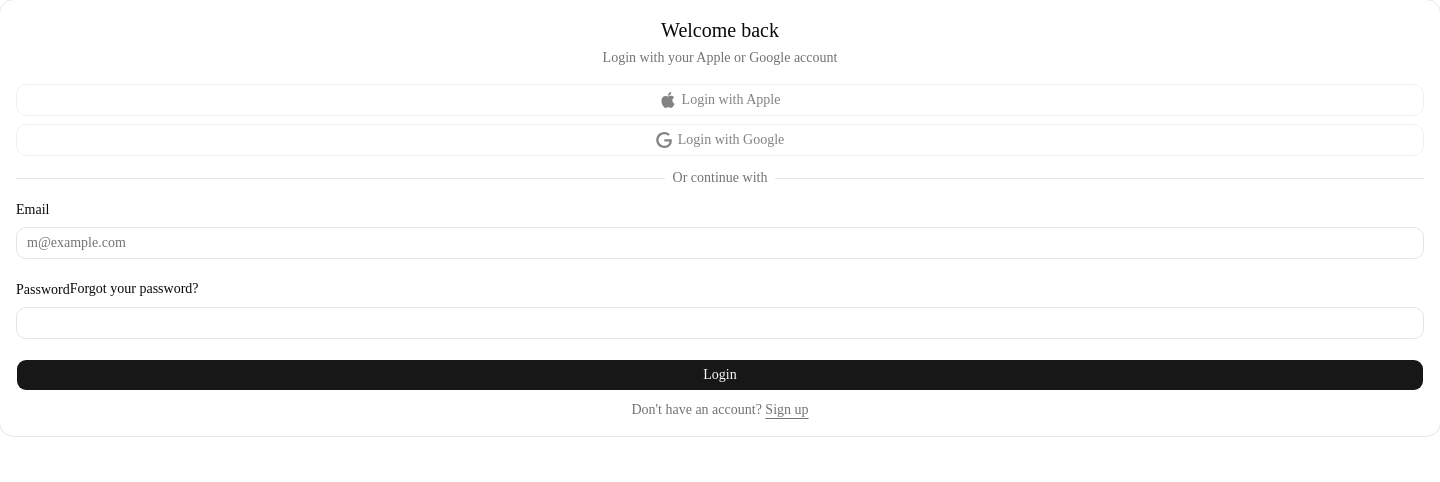
Test: LoginForm › blocks submit and shows a message for an invalid email
Type "not-an-email" into the field labelled "Email" at (720, 243), box [16,227,1424,259]
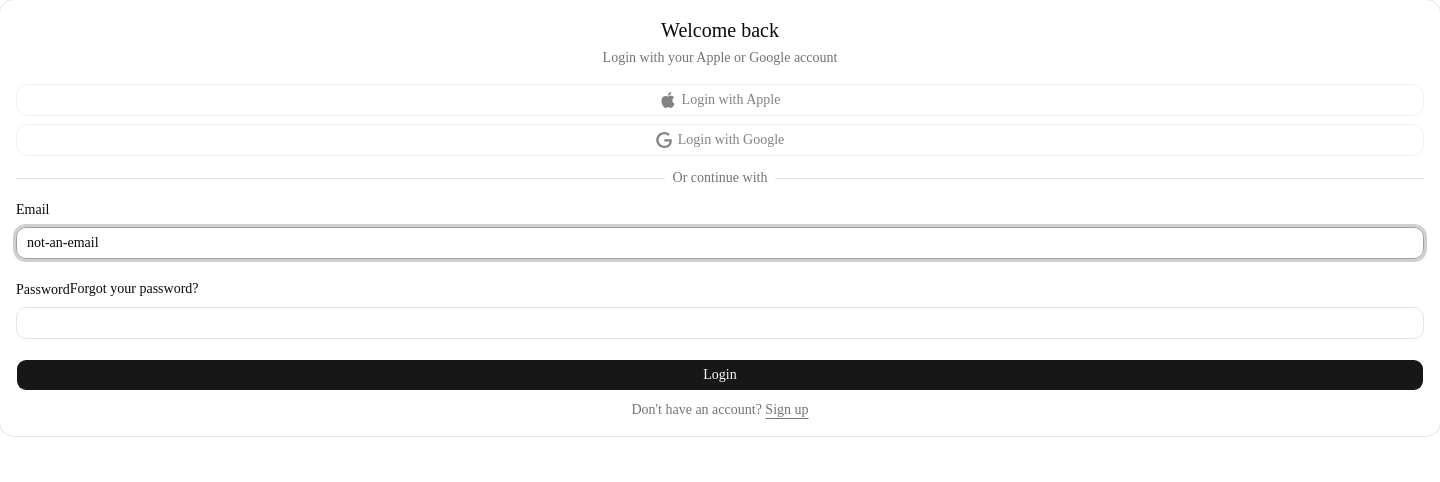
Type "secret123" into the password field labelled "Password" at (720, 323), box [16,307,1424,339]
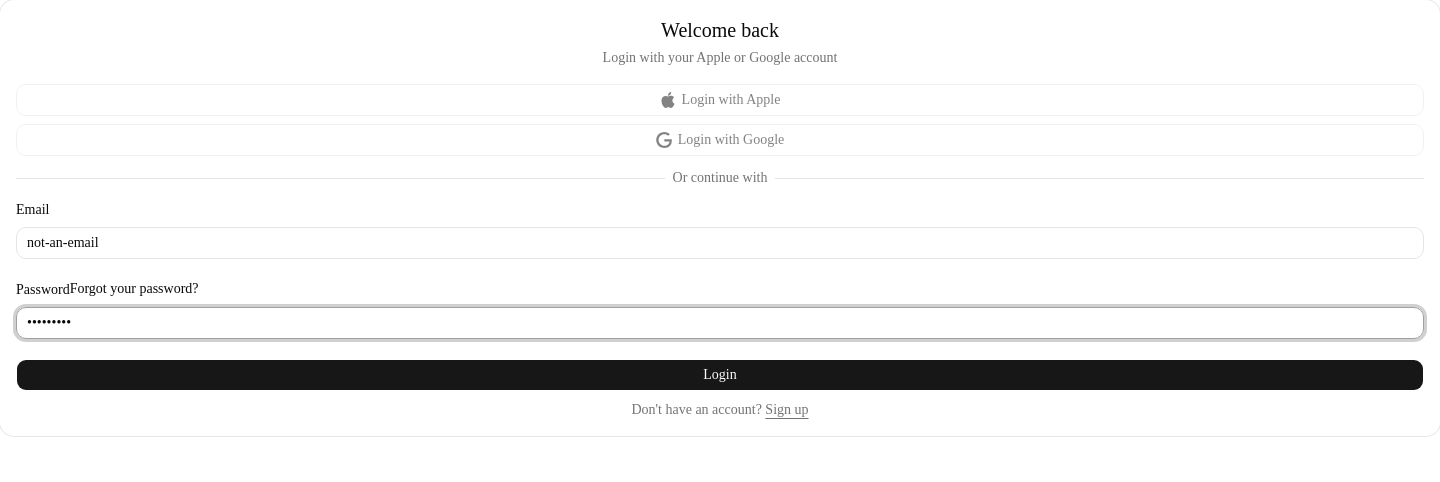
Click the button "Login" at (720, 375), box [16,359,1424,391]
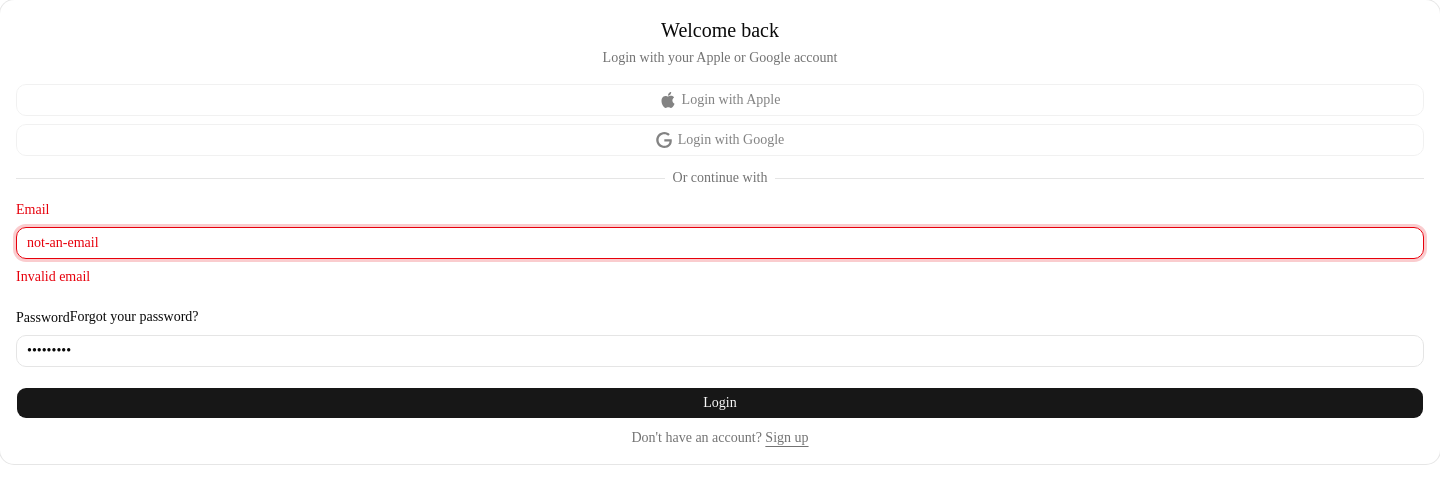
Expected: the text "Invalid email" is shown, [16,269,90,284]
